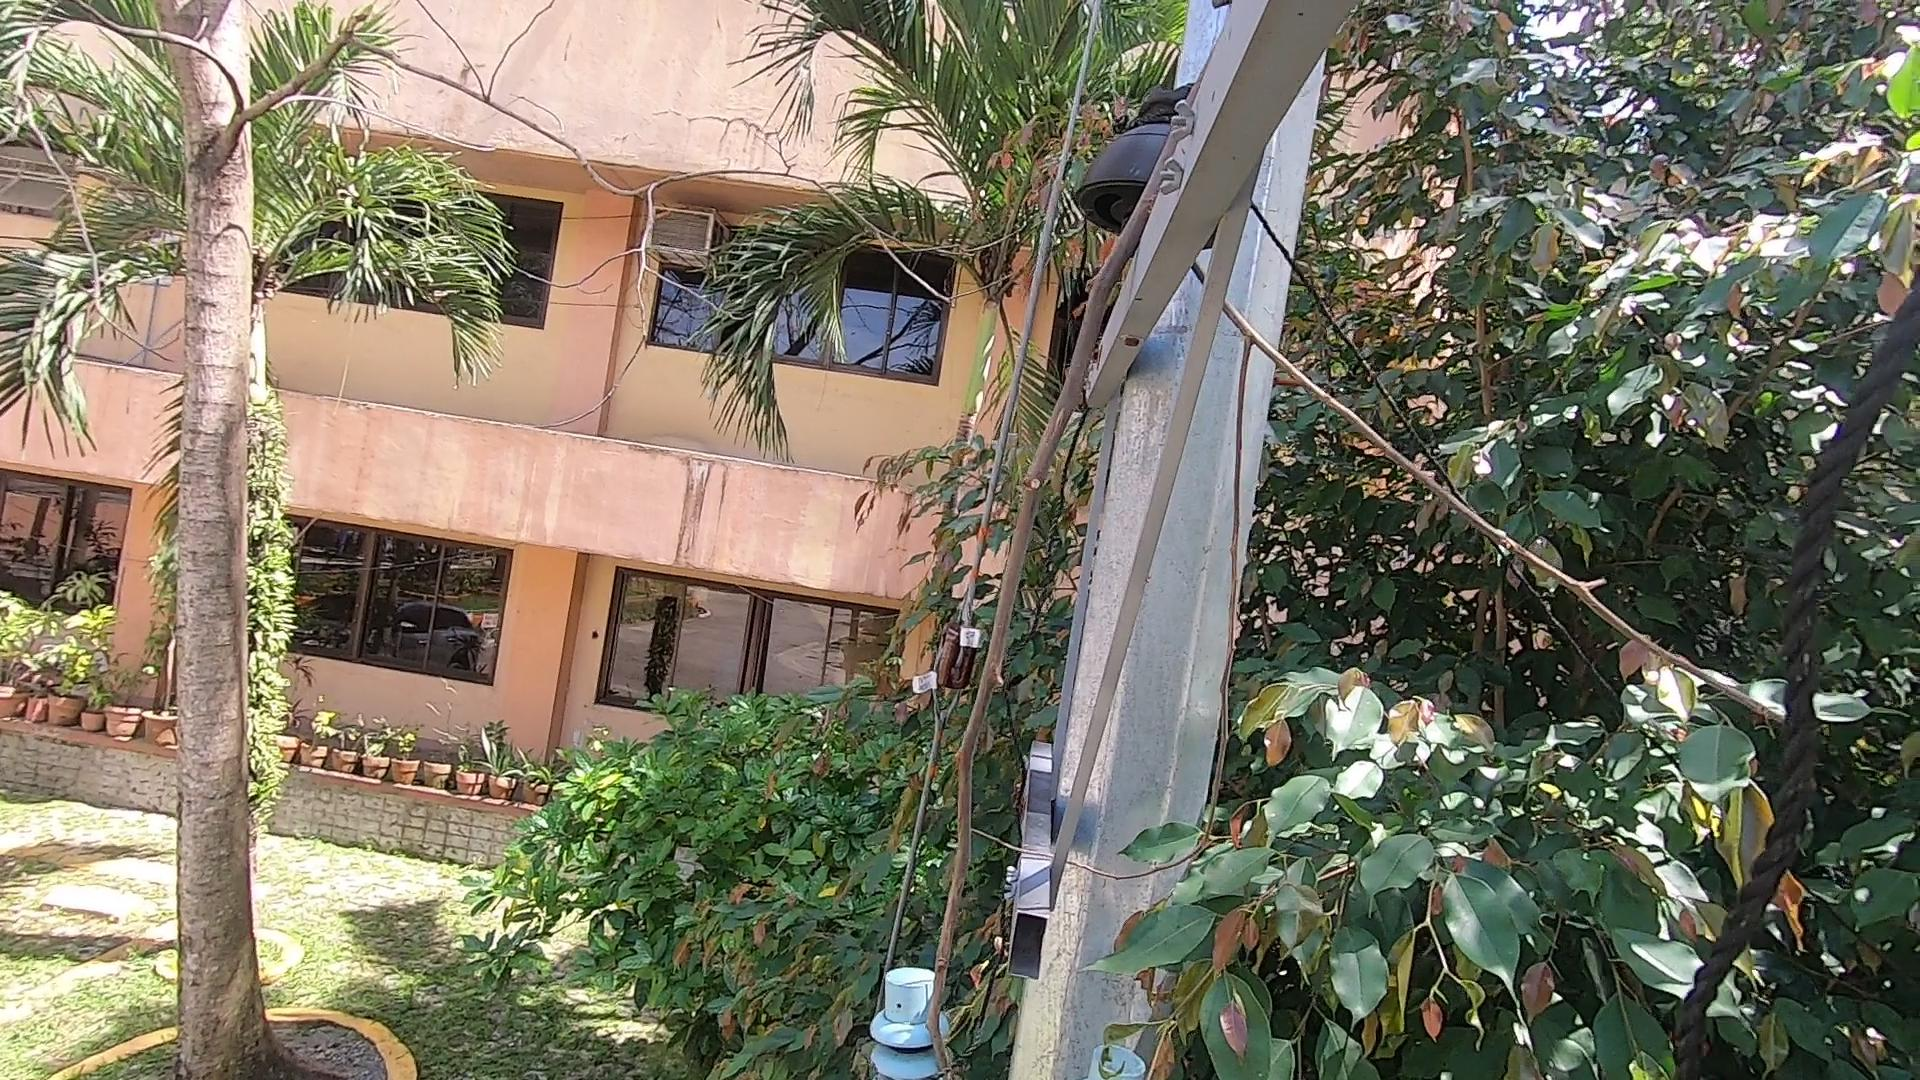branch with leaves: (1022, 816, 1411, 1080)
tree branch: (913, 5, 1233, 1073)
